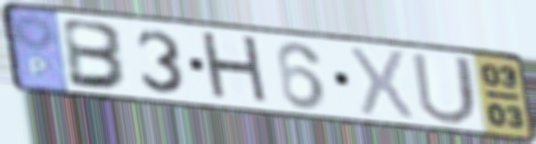3: (134, 27, 187, 96)
6: (274, 39, 328, 112)
B: (60, 15, 131, 92)
H: (197, 29, 274, 109)
U: (408, 50, 482, 127)
X: (347, 44, 417, 123)
